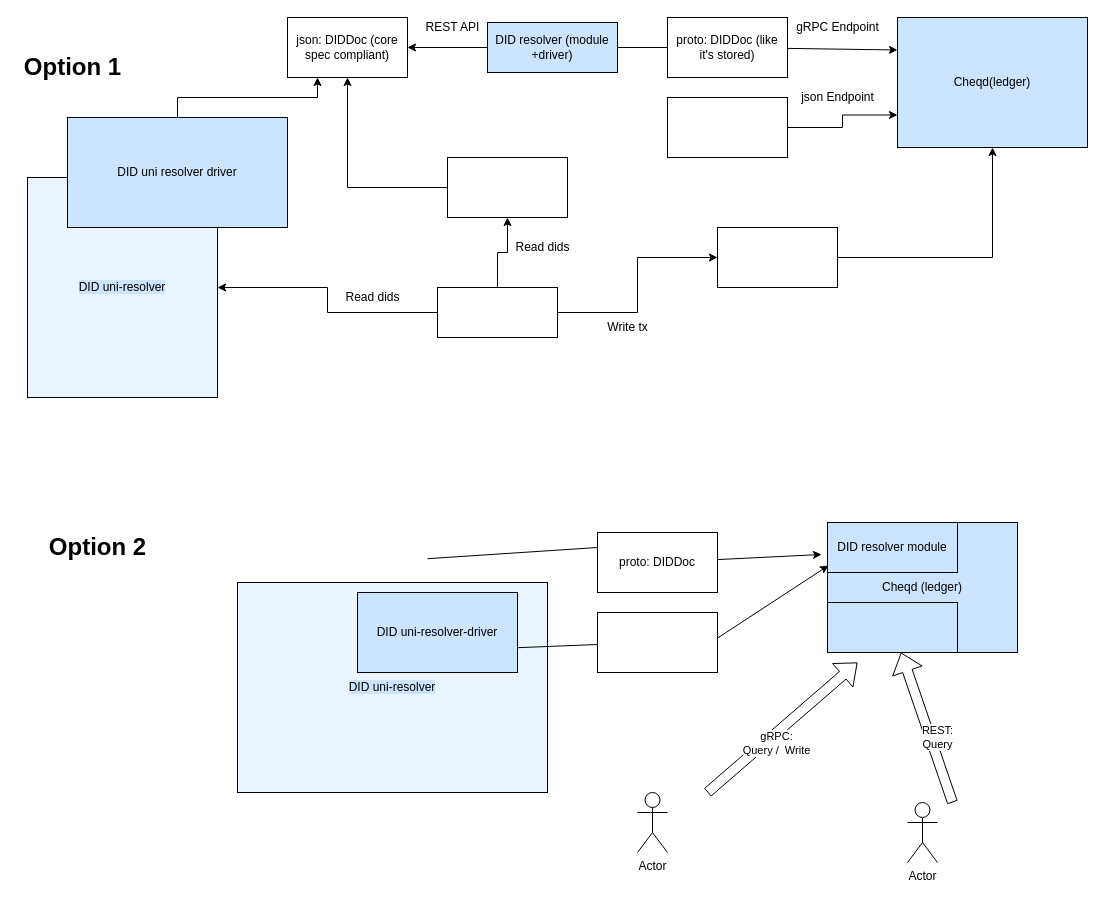
This 1105x901 diagram has some shape labels left out. Each missing label, with the centre of its shape:
"App" goes at point 497,312.
"Cheqd module" goes at point 892,627.
"CosmJs" goes at point 777,257.
"json: DIDDoc" goes at point 657,642.
"json: DIDDoc (like it's stored)" goes at point 727,127.
"Third party driver for third party system" goes at point 507,187.
